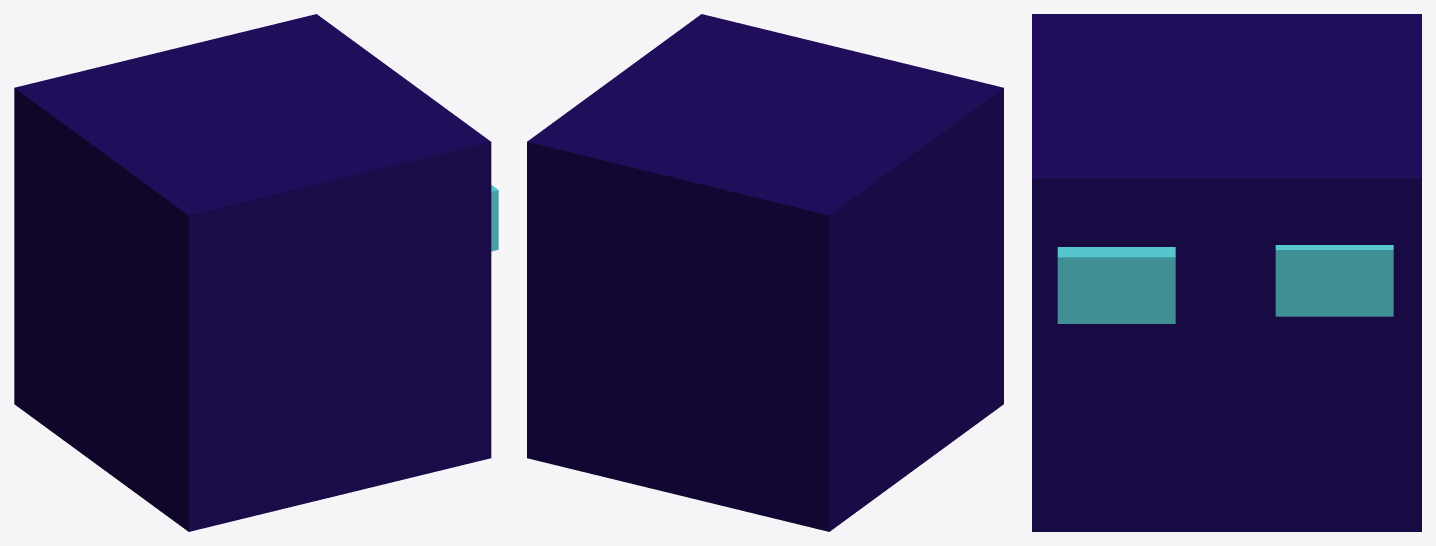
The model's file is slime.glb.
3 renders of one model, left to right at view 1: azimuth 30°, elevation 25°; view 2: azimuth 150°, elevation 25°; view 3: azimuth 270°, elevation 25°, orthographic. The views are drawn at different scales.
Parts seen in each view (by area): view 1: Cube; view 2: Cube; view 3: Cube, Cube.002, Cube.001.
Boxes of the visible parts, bbox=[...] form: Cube: bbox=[14, 14, 491, 531]; Cube: bbox=[527, 14, 1003, 531]; Cube: bbox=[1032, 14, 1421, 531]; Cube.002: bbox=[1057, 247, 1175, 323]; Cube.001: bbox=[1275, 245, 1393, 316].
Bounding box in the file's own units: 2.13 × 2 × 2.
